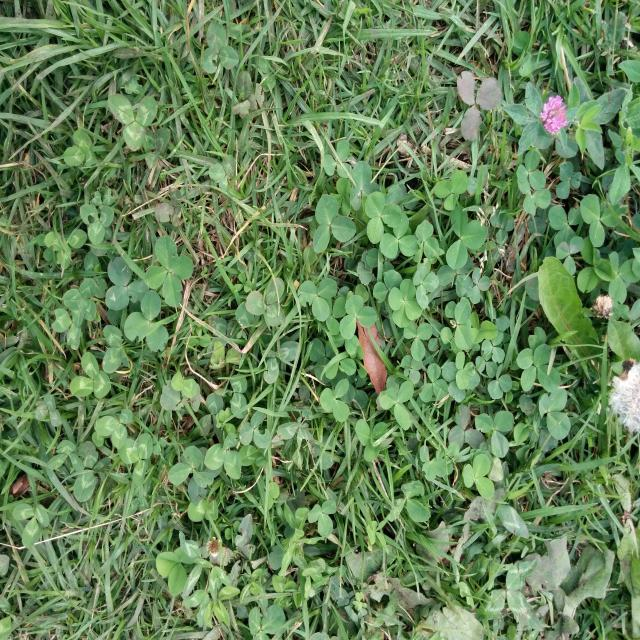Four Leaf Clover: (144, 235, 193, 307), (388, 280, 423, 328)
